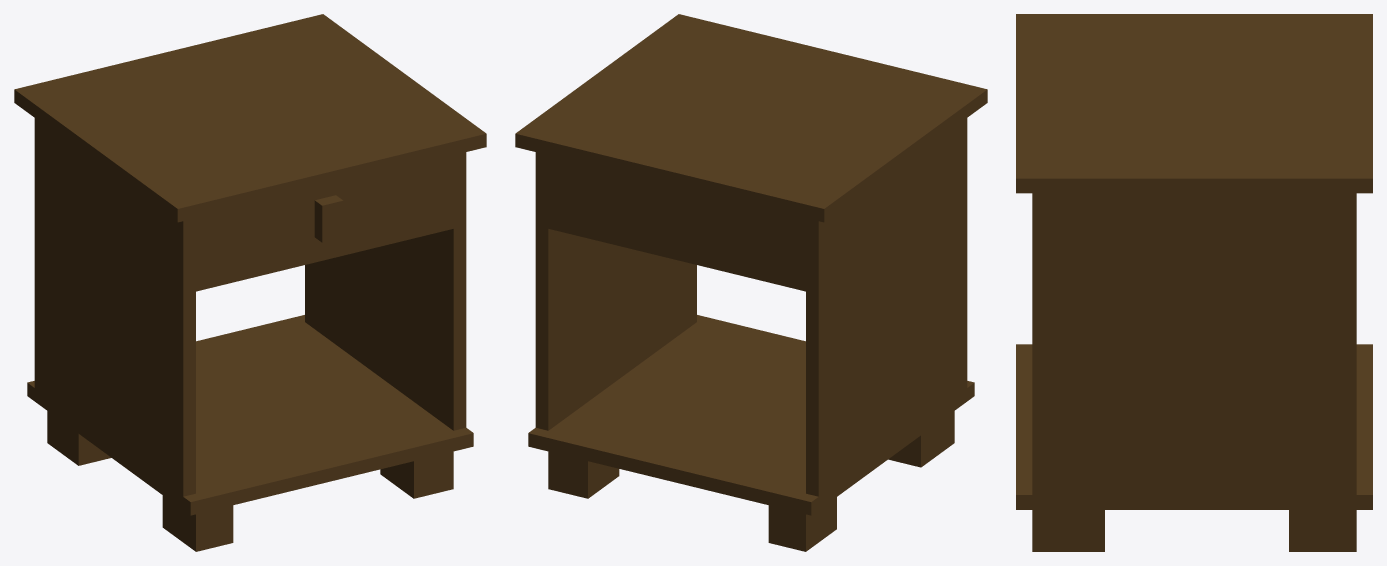
File: mdl_bedside_table.glb
The picture shows the model from 3 angles, left to right: view 1: azimuth 30°, elevation 25°; view 2: azimuth 150°, elevation 25°; view 3: azimuth 270°, elevation 25°; orthographic projection. The views are drawn at different scales.
Visible parts, largest first — view 1: Cube; view 2: Cube; view 3: Cube.
Part boxes in pixels (x1,y1,x2,y2): Cube: (14, 14, 486, 551); Cube: (515, 14, 987, 551); Cube: (1016, 14, 1372, 551).
Size of the model in its own units: 2.4 by 2.63 by 2.2.
